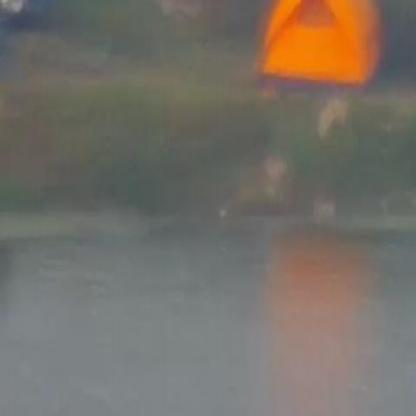other: (253, 2, 381, 92)
